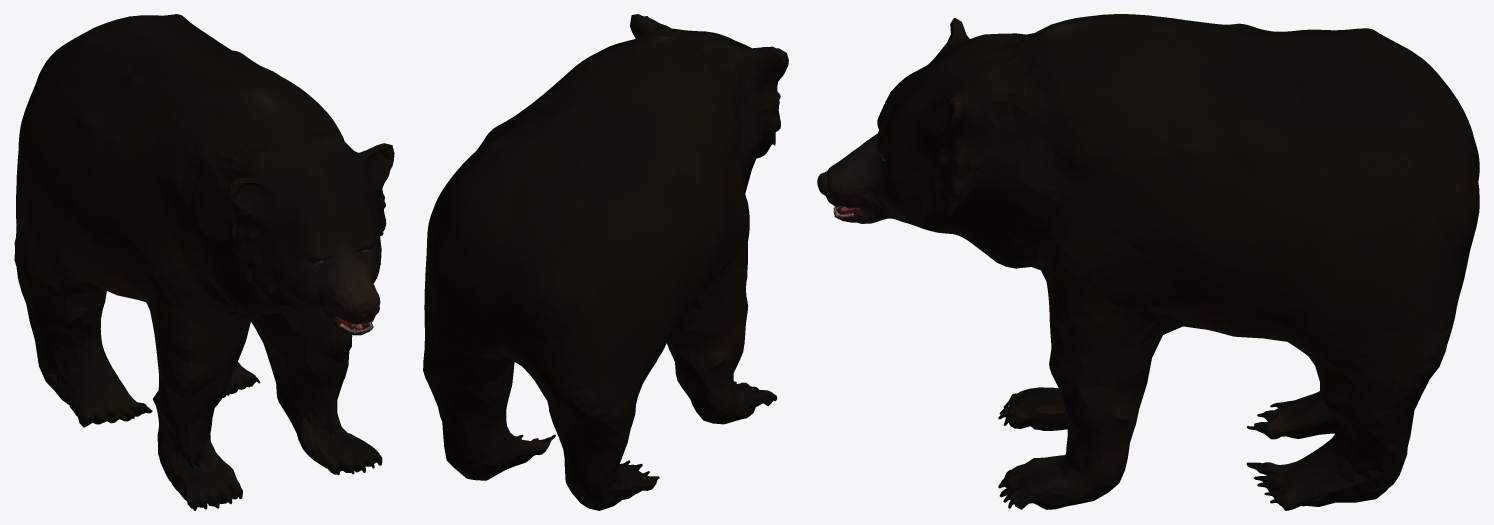
The model's file is bearv1.obj.
3 renders of one model, left to right at view 1: azimuth 30°, elevation 25°; view 2: azimuth 150°, elevation 25°; view 3: azimuth 270°, elevation 25°, orthographic. The views are drawn at different scales.
Parts seen in each view (by area): view 1: bear; view 2: bear; view 3: bear.
Part boxes in pixels (box(x1,y1,x2,y2)): bear: box(14, 14, 394, 510); bear: box(423, 14, 788, 510); bear: box(817, 14, 1479, 510).
Bounding box in the file's own units: 2.3 × 3.52 × 4.77.
Materials: 1 (1 with a texture image).
